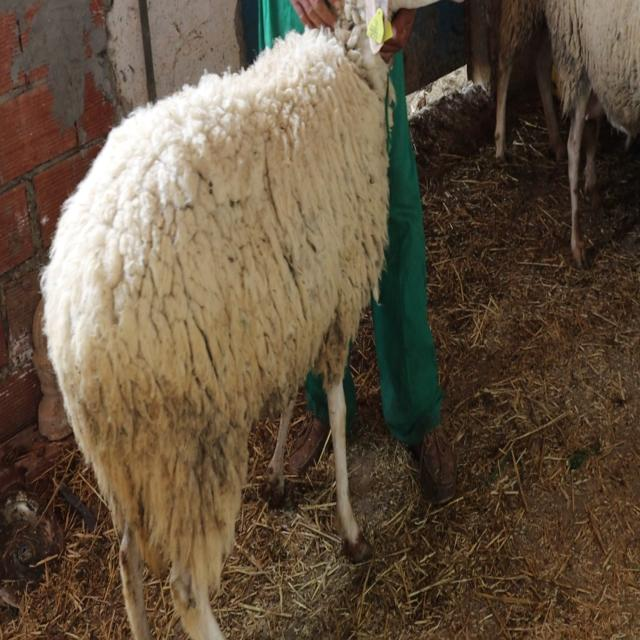Score_4: (41, 0, 436, 639)
